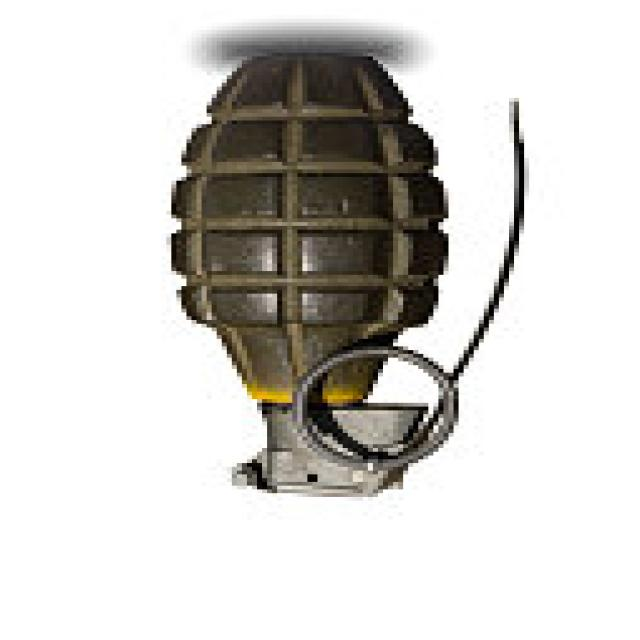grenade: (162, 39, 549, 514)
